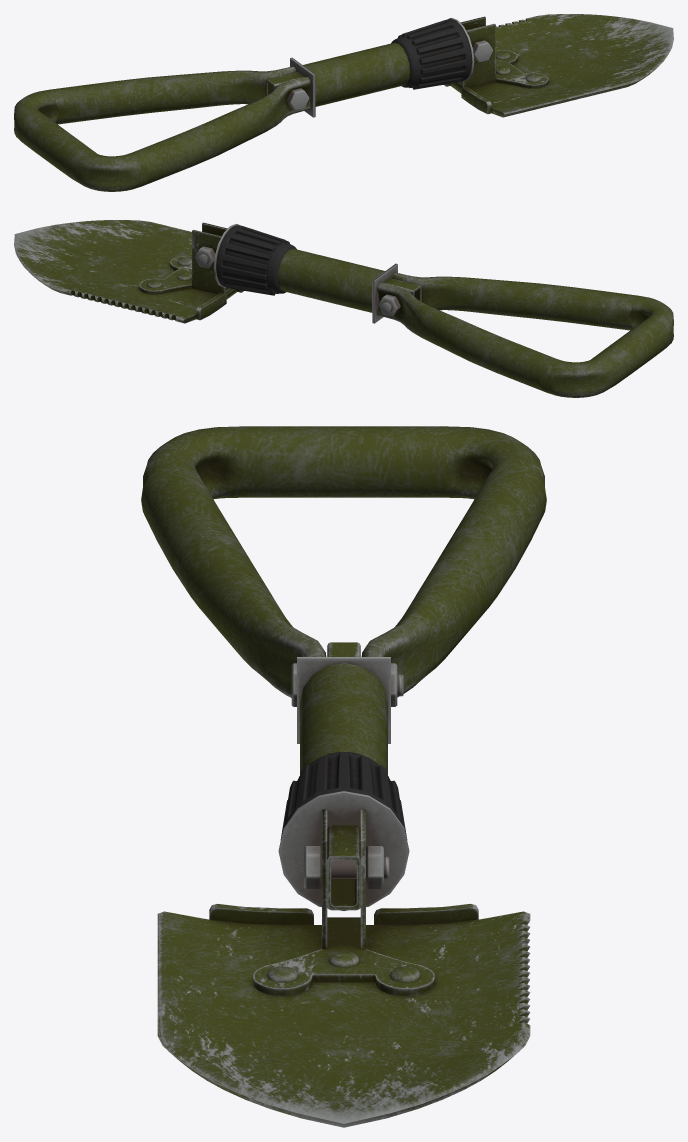
Rendered from military-shovel.glb.
3 renders of one model, top to bottom at view 1: azimuth 30°, elevation 25°; view 2: azimuth 150°, elevation 25°; view 3: azimuth 270°, elevation 25°, orthographic. The views are drawn at different scales.
Visible parts, largest first — view 1: Object_2; view 2: Object_2; view 3: Object_2.
Boxes of the visible parts, bbox=[...] form: Object_2: bbox=[14, 14, 673, 191]; Object_2: bbox=[14, 220, 673, 397]; Object_2: bbox=[141, 426, 546, 1127].
Bounding box in the file's own units: 94.79 × 10.25 × 26.43.
1 material, 1 textured.
